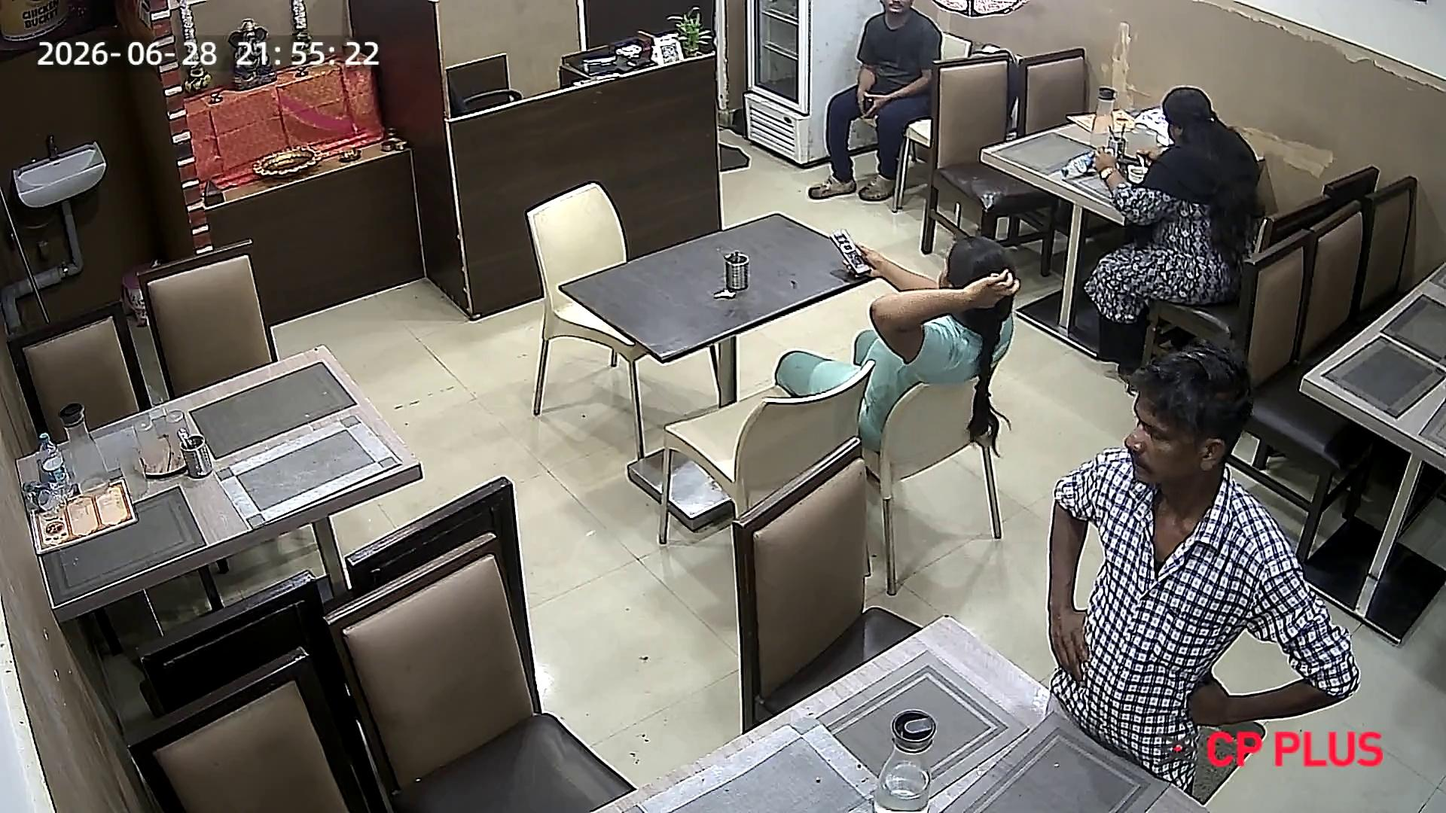dirty: (16, 339, 430, 609)
occupied: (590, 224, 1023, 437), (997, 80, 1340, 256)
